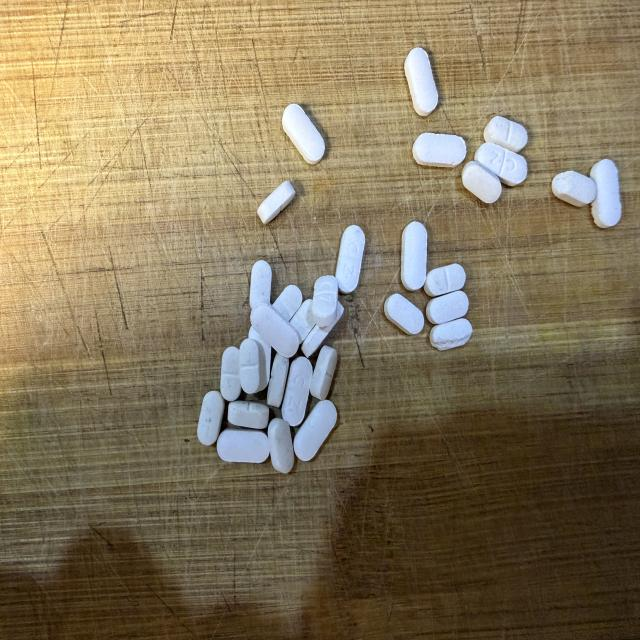pill: (294, 400, 337, 461), (250, 304, 299, 357), (282, 104, 325, 164), (302, 302, 343, 357), (475, 143, 527, 186), (405, 48, 438, 115), (590, 159, 621, 227), (282, 357, 312, 426), (336, 225, 365, 293), (217, 428, 269, 463), (413, 133, 466, 167), (401, 222, 427, 291), (462, 161, 501, 203), (552, 171, 597, 207), (384, 294, 424, 334), (258, 181, 295, 223), (484, 116, 527, 152), (248, 327, 271, 391), (197, 391, 224, 445), (310, 346, 337, 400), (240, 339, 267, 393), (268, 418, 294, 473), (426, 291, 468, 324), (430, 318, 472, 350), (424, 264, 465, 296), (312, 276, 338, 326), (267, 354, 289, 407), (228, 401, 269, 429), (290, 299, 315, 343), (221, 347, 241, 401), (273, 285, 302, 321), (250, 260, 271, 309)
